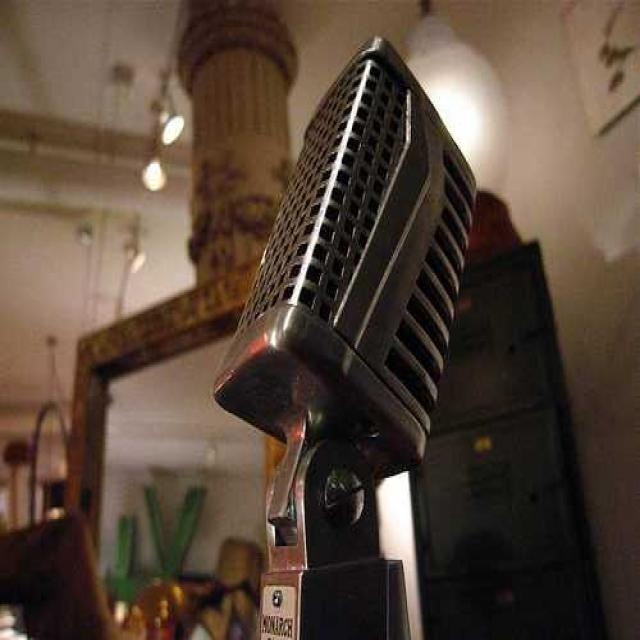microphone: (210, 38, 468, 632)
